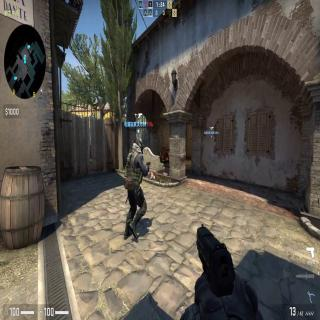CT-Body: (124, 136, 148, 240)
